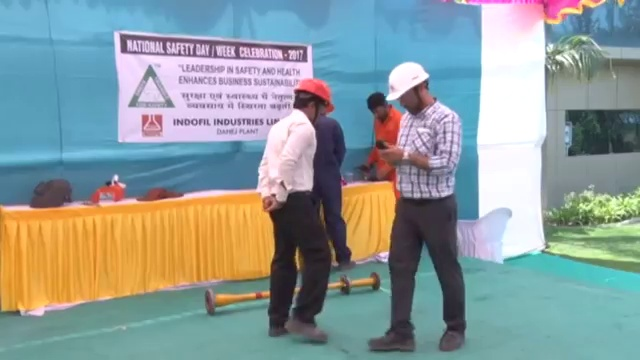helmet: (383, 61, 431, 102), (294, 76, 337, 111)
helmet_off: (367, 92, 391, 121)
helmet_on: (382, 61, 432, 116), (293, 72, 338, 125)
person: (367, 60, 469, 352), (255, 71, 336, 346), (312, 95, 357, 271), (365, 92, 405, 202)
